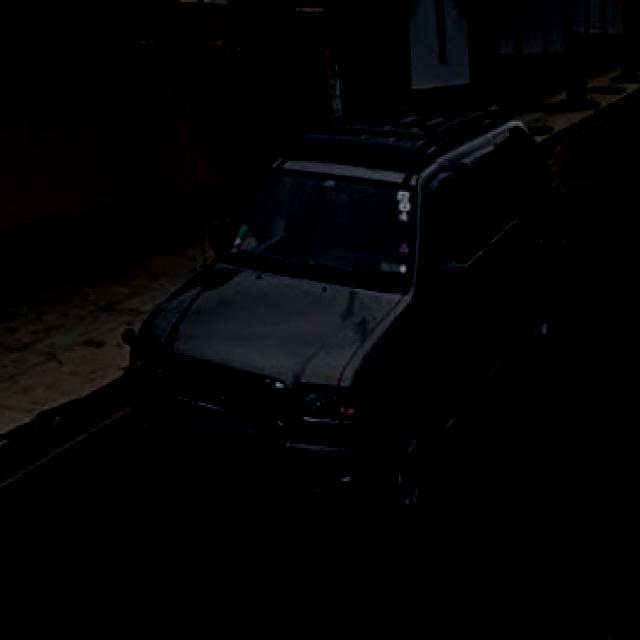car: (129, 101, 570, 533)
